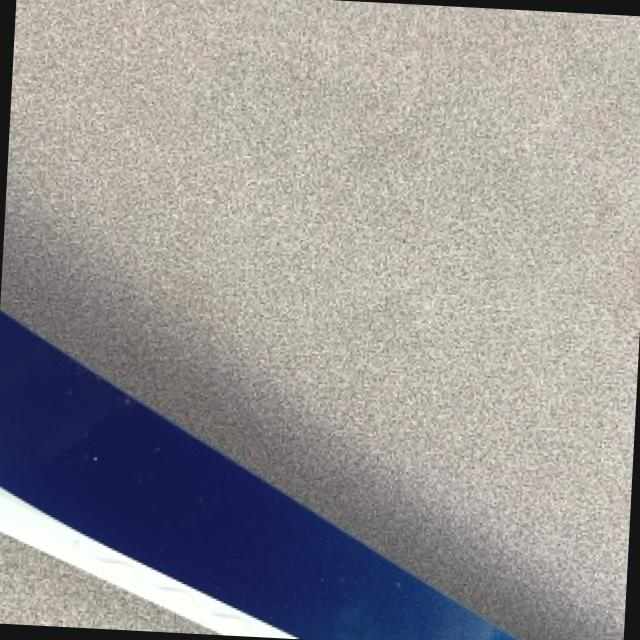healthy: (0, 535, 195, 632)
